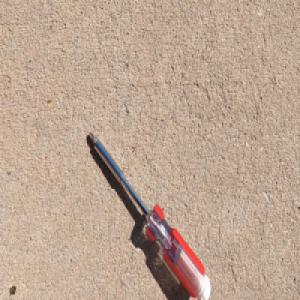Screwdriver: (87, 130, 211, 300)
